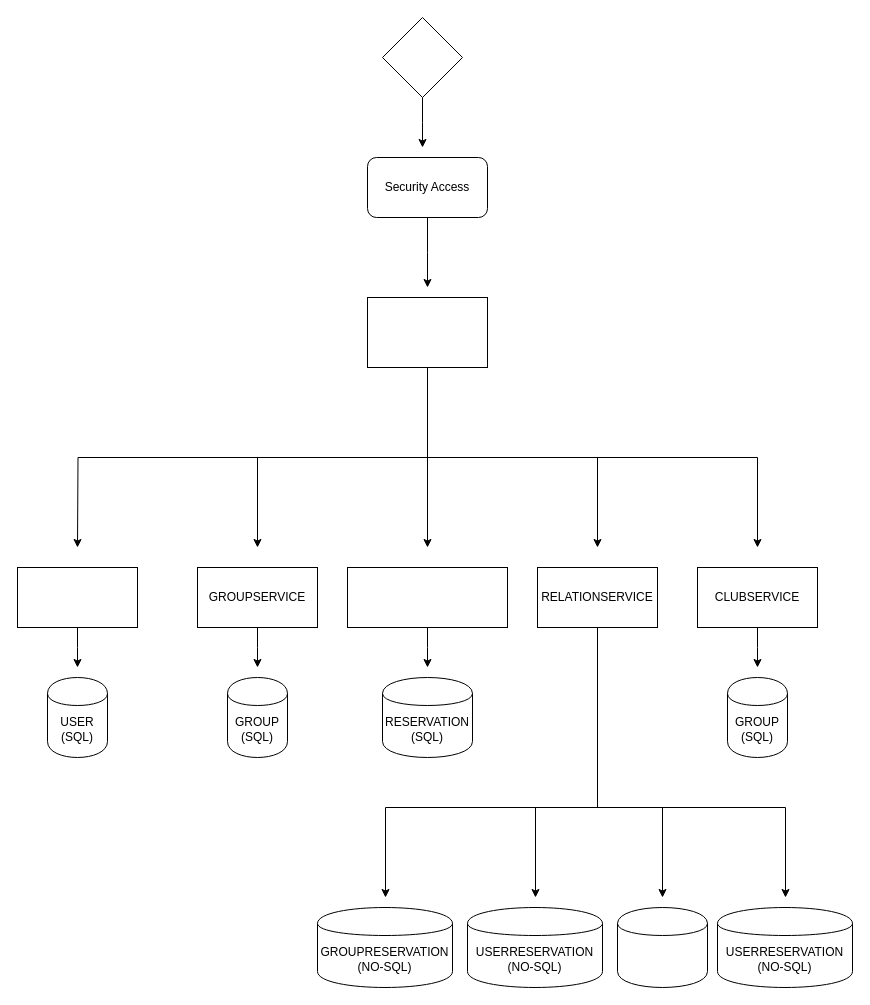
Some shapes in this 870 by 1005 pixel diagram are drawn without their labels. The box of each missing label's shape, as (x1, y1, x2, y2) in pixels:
PadelFriendsService (Edge Service): (366, 296, 488, 368)
RESERVATIONSERVICE: (346, 566, 508, 628)
UI Angular: (382, 16, 462, 98)
USERGROUP (NO-SQL): (616, 906, 708, 988)
USERSERVICE: (16, 566, 138, 628)
